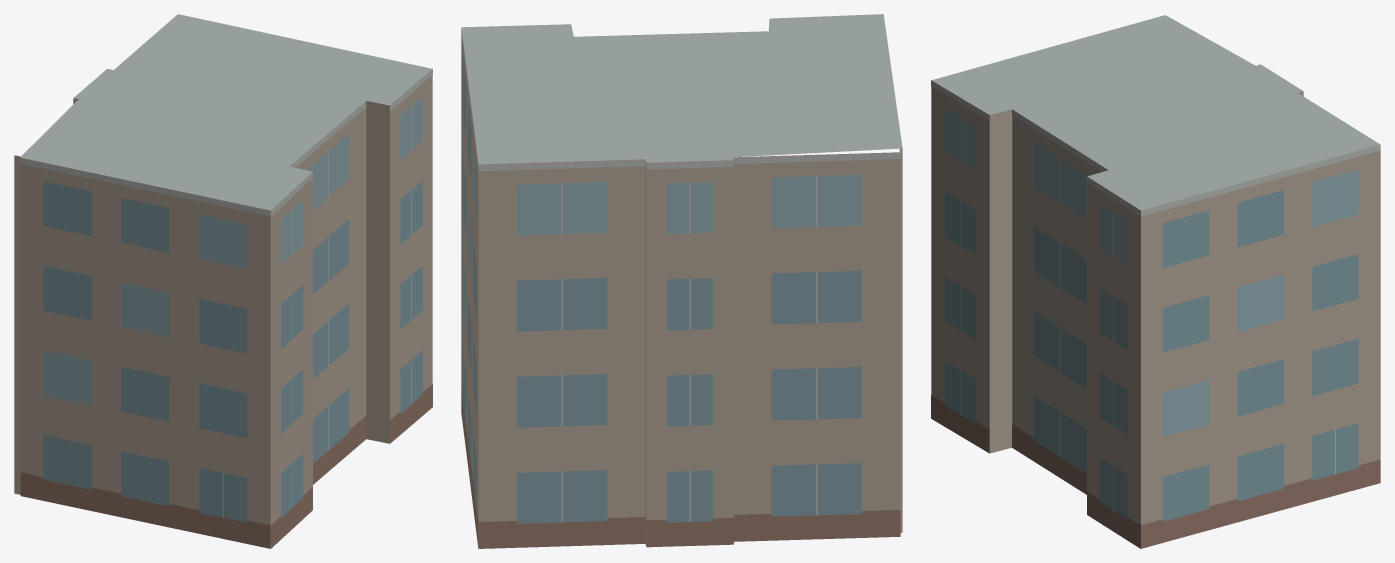
Rendered from survey-upis-32630825.glb.
The picture shows the model from 3 angles, left to right: view 1: azimuth 30°, elevation 25°; view 2: azimuth 150°, elevation 25°; view 3: azimuth 270°, elevation 25°; orthographic projection. The views are drawn at different scales.
Visible parts, largest first — view 1: survey-upis-32630825.tmp; view 2: survey-upis-32630825.tmp; view 3: survey-upis-32630825.tmp.
Part boxes in pixels (x1,y1,x2,y2): survey-upis-32630825.tmp: (14,14,432,548); survey-upis-32630825.tmp: (461,14,902,548); survey-upis-32630825.tmp: (931,15,1380,548).
Bounding box in the file's own units: 17.07 × 13.7 × 16.5.
